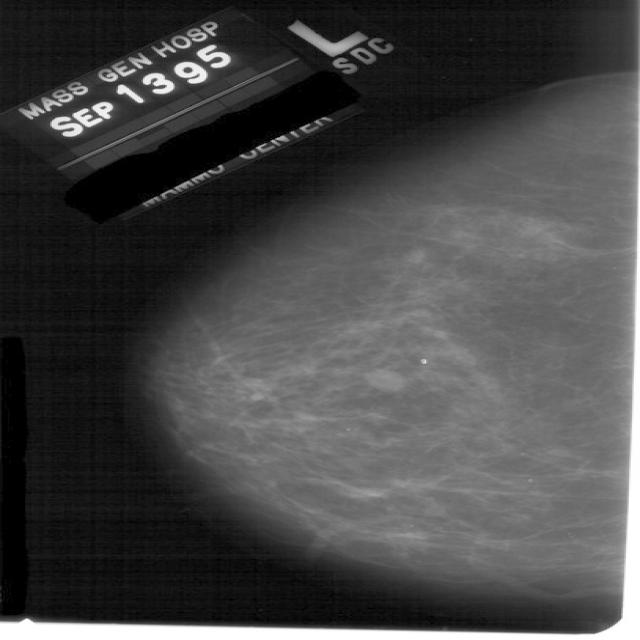tumour: (360, 367, 407, 391)
